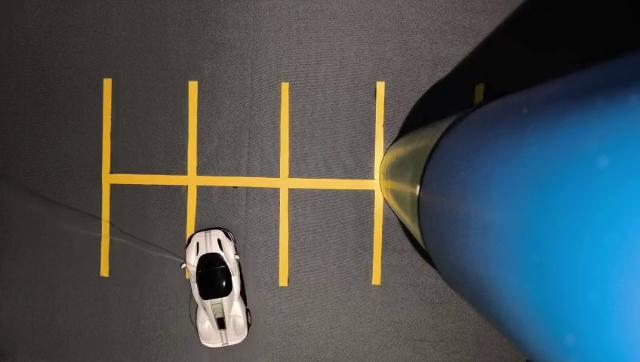toy_car: (171, 222, 268, 354)
